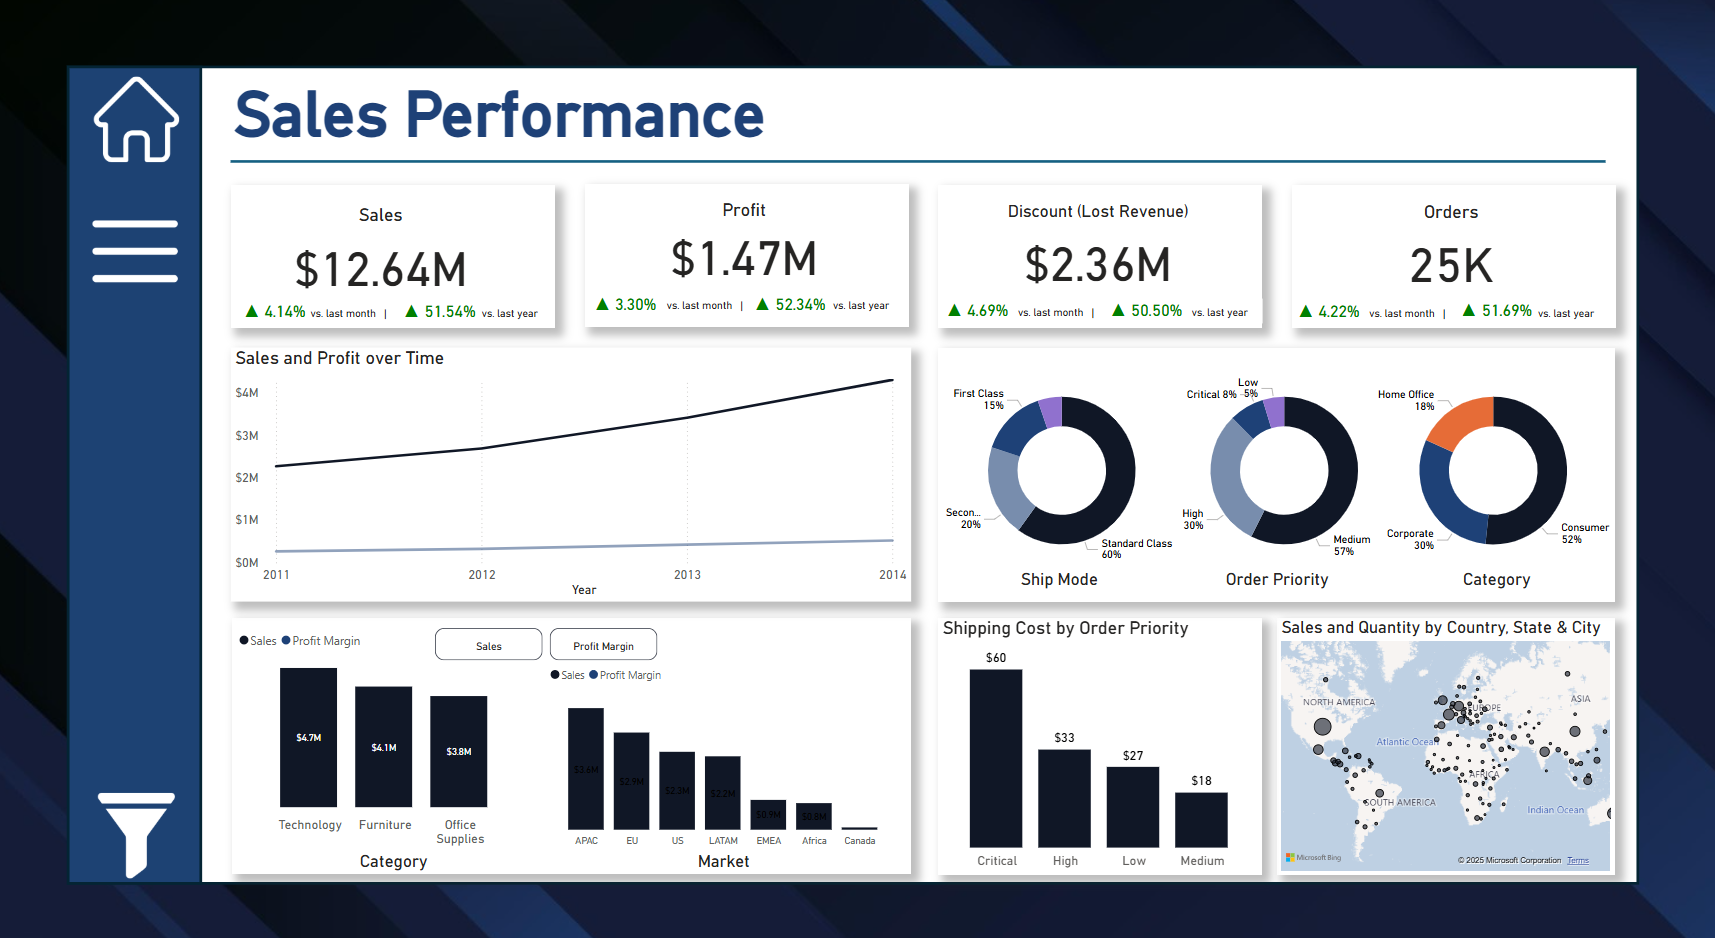

The page's visual inventory and layout, read from the dashboard file:
{"tool":"powerbi","page":{"name":"Sales","canvas":[1980,1080],"ordinal":1},"visuals":[{"type":"shape","box":[682.8,210.6,370,163],"z":0,"group":"g2"},{"type":"shape","box":[279,211,370,163],"z":0,"group":"g1"},{"type":"shape","box":[1086.9,211,370.2,163],"z":0,"group":"g4"},{"type":"shape","box":[1491,211,370,163],"z":0,"group":"g3"},{"type":"shape","box":[1087.4,397.1,773.8,290.3],"z":0},{"type":"card","fields":{"Values":["_Measures.Trend Icon MOM Profit"]},"box":[686.8,334.6,84.1,26.7],"z":1000,"group":"g2"},{"type":"card","fields":{"Values":["_Measures.Trend Icon MOM Sales"]},"box":[283,340,91,33],"z":1000,"group":"g1"},{"type":"card","fields":{"Values":["_Measures.Trend Icon MOM Discount"]},"box":[1089.6,340.9,83,28.4],"z":1000,"group":"g4"},{"type":"card","fields":{"Values":["_Measures.Trend Icon MOM Orders"]},"box":[1491,342,83,28],"z":1000,"group":"g3"},{"type":"shape","box":[279.4,706.1,776.3,293.9],"z":1000},{"type":"card","fields":{"Values":["_Measures.Trend Icon YOY Profit"]},"box":[866,334.9,103,28.9],"z":2000,"group":"g2"},{"type":"card","fields":{"Values":["_Measures.Trend Icon YOY Discount"]},"box":[1273.4,336,100,36.4],"z":2000,"group":"g4"},{"type":"card","fields":{"Values":["_Measures.Trend Icon YOY Orders"]},"box":[1672.8,336,103.4,37.5],"z":2000,"group":"g3"},{"type":"card","fields":{"Values":["_Measures.Trend Icon YOY Sales"]},"box":[464,339,105,34],"z":2000,"group":"g1"},{"type":"donutChart","fields":{"Category":["orders.Order Category"],"Y":["_Measures.Line Count"]},"box":[1583,403.2,277.7,270.2],"z":2000},{"type":"card","title":"Profit","fields":{"Values":["_Measures.Profit"]},"box":[757.4,227.5,216.3,99.4],"z":3000,"group":"g2"},{"type":"card","title":"Discount  (Lost Revenue)","fields":{"Values":["_Measures.Discount (Lost Revenue)"]},"box":[1161.6,229.6,216.4,109.2],"z":3000,"group":"g4"},{"type":"card","title":"Orders","fields":{"Values":["_Measures.Order Count"]},"box":[1565.3,229.6,215.2,109.6],"z":3000,"group":"g3"},{"type":"card","title":"Sales","fields":{"Values":["_Measures.Sales"]},"box":[340.6,231.7,219.8,114.3],"z":3000,"group":"g1"},{"type":"donutChart","fields":{"Y":["_Measures.Line Count"],"Category":["orders.Order Priority"]},"box":[1344.7,403.2,277,270.2],"z":3000},{"type":"textbox","box":[276.8,82.1,683.9,101.8],"z":4000},{"type":"textbox","box":[771,335,107,32],"z":4000,"group":"g2"},{"type":"textbox","box":[1172.2,341.2,106,29],"z":4000,"group":"g4"},{"type":"textbox","box":[364.1,341.9,112.8,31.9],"z":4000,"group":"g1"},{"type":"textbox","box":[1574,342,112,29],"z":4000,"group":"g3"},{"type":"group","id":"g1","title":"Sales Card","box":[279,211,370,163],"z":5000},{"type":"textbox","box":[961.1,335.3,89.1,32.7],"z":5000,"group":"g2"},{"type":"textbox","box":[1371,341,86,28],"z":5000,"group":"g4"},{"type":"textbox","box":[561,342,84,30],"z":5000,"group":"g1"},{"type":"textbox","box":[1766,342,88,29],"z":5000,"group":"g3"},{"type":"group","id":"g2","title":"Profit Card","box":[682.8,210.6,370,163],"z":6000},{"type":"lineChart","title":"Sales and Profit over Time","fields":{"Category":["Date.Date Hierarchy.Year","Date.Date Hierarchy.Quarter","Date.Date Hierarchy.Month Short","Date.Date Hierarchy.Date"],"Y":["_Measures.Sales","_Measures.Profit"]},"box":[278.4,396.9,777.3,290],"z":8000},{"type":"group","id":"g3","title":"Orders Card","box":[1491,211,370,163],"z":9000},{"type":"group","id":"g4","title":"Discount Card","box":[1086.9,211,370.2,163],"z":10000},{"type":"columnChart","fields":{"Y":["_Measures.Sales","_Measures.Profit Margin"],"Category":["product.Category"]},"box":[283,712,332,264],"z":11000},{"type":"advancedSlicerVisual","fields":{"Values":["Metrics.Metrics"]},"box":[506.5,712.2,264.2,47.2],"z":12000},{"type":"map","title":"Sales and Quantity by Country, State & City","fields":{"Category":["store.city Hierarchy.country","store.city Hierarchy.state","store.city Hierarchy.city"],"Size":["_Measures.Sales"]},"box":[1474.8,705.8,386.4,294.2],"z":13000},{"type":"columnChart","title":"Shipping Cost by Order Priority","fields":{"Y":["_Measures.Avg Shipping Cost"],"Category":["orders.Order Priority"]},"box":[1087.4,705.8,369.9,294.2],"z":14000},{"type":"columnChart","fields":{"Y":["_Measures.Sales","_Measures.Profit Margin"],"Category":["store.market"]},"box":[639,752,406,224],"z":15000},{"type":"donutChart","fields":{"Y":["_Measures.Line Count"],"Category":["orders.ship_mode"]},"box":[1089.4,403.2,277,270.2],"z":16000},{"type":"textbox","box":[405,969,118,40],"z":17000},{"type":"textbox","box":[800,968,84,41],"z":18000},{"type":"textbox","box":[1164.9,645.7,122.3,41.5],"z":19000},{"type":"textbox","box":[1393.6,645.7,160.6,41.5],"z":20000},{"type":"textbox","box":[1663.8,645.7,122.3,41.5],"z":21000},{"type":"image","box":[75,246.4,187.5,107.1],"z":22000},{"type":"image","box":[76.8,901.8,187,107],"z":23000},{"type":"image","box":[76.8,82.1,187,107],"z":24000}]}

Visuals, with their boxes in screenshot pixels (x1, y1, x2, y2), scaled from the page's 1980x1080 canvas onto the 1715x938 screenshot:
shape: detection(591, 183, 912, 324)
shape: detection(242, 183, 562, 325)
shape: detection(941, 183, 1262, 325)
shape: detection(1291, 183, 1612, 325)
shape: detection(942, 345, 1612, 597)
card - _Measures.Trend Icon MOM Profit: detection(595, 291, 668, 314)
card - _Measures.Trend Icon MOM Sales: detection(245, 295, 324, 324)
card - _Measures.Trend Icon MOM Discount: detection(944, 296, 1016, 321)
card - _Measures.Trend Icon MOM Orders: detection(1291, 297, 1363, 321)
shape: detection(242, 613, 914, 869)
card - _Measures.Trend Icon YOY Profit: detection(750, 291, 839, 316)
card - _Measures.Trend Icon YOY Discount: detection(1103, 292, 1190, 323)
card - _Measures.Trend Icon YOY Orders: detection(1449, 292, 1538, 324)
card - _Measures.Trend Icon YOY Sales: detection(402, 294, 493, 324)
donutChart - orders.Order Category x _Measures.Line Count: detection(1371, 350, 1612, 585)
"Profit" card: detection(656, 198, 843, 284)
"Discount  (Lost Revenue)" card: detection(1006, 199, 1194, 294)
"Orders" card: detection(1356, 199, 1542, 295)
"Sales" card: detection(295, 201, 485, 301)
donutChart - _Measures.Line Count x orders.Order Priority: detection(1165, 350, 1405, 585)
textbox: detection(240, 71, 832, 160)
textbox: detection(668, 291, 760, 319)
textbox: detection(1015, 296, 1107, 322)
textbox: detection(315, 297, 413, 325)
textbox: detection(1363, 297, 1460, 322)
"Sales Card" group: detection(242, 183, 562, 325)
textbox: detection(832, 291, 910, 320)
textbox: detection(1188, 296, 1262, 320)
textbox: detection(486, 297, 559, 323)
textbox: detection(1530, 297, 1606, 322)
"Profit Card" group: detection(591, 183, 912, 324)
"Sales and Profit over Time" lineChart: detection(241, 345, 914, 597)
"Orders Card" group: detection(1291, 183, 1612, 325)
"Discount Card" group: detection(941, 183, 1262, 325)
columnChart - _Measures.Sales x _Measures.Profit Margin: detection(245, 618, 533, 848)
advancedSlicerVisual - Metrics.Metrics: detection(439, 619, 668, 660)
"Sales and Quantity by Country, State & City" map: detection(1277, 613, 1612, 869)
"Shipping Cost by Order Priority" columnChart: detection(942, 613, 1262, 869)
columnChart - _Measures.Sales x _Measures.Profit Margin: detection(553, 653, 905, 848)
donutChart - _Measures.Line Count x orders.ship_mode: detection(944, 350, 1184, 585)
textbox: detection(351, 842, 453, 876)
textbox: detection(693, 841, 766, 876)
textbox: detection(1009, 561, 1115, 597)
textbox: detection(1207, 561, 1346, 597)
textbox: detection(1441, 561, 1547, 597)
image: detection(65, 214, 227, 307)
image: detection(67, 783, 228, 876)
image: detection(67, 71, 228, 164)
